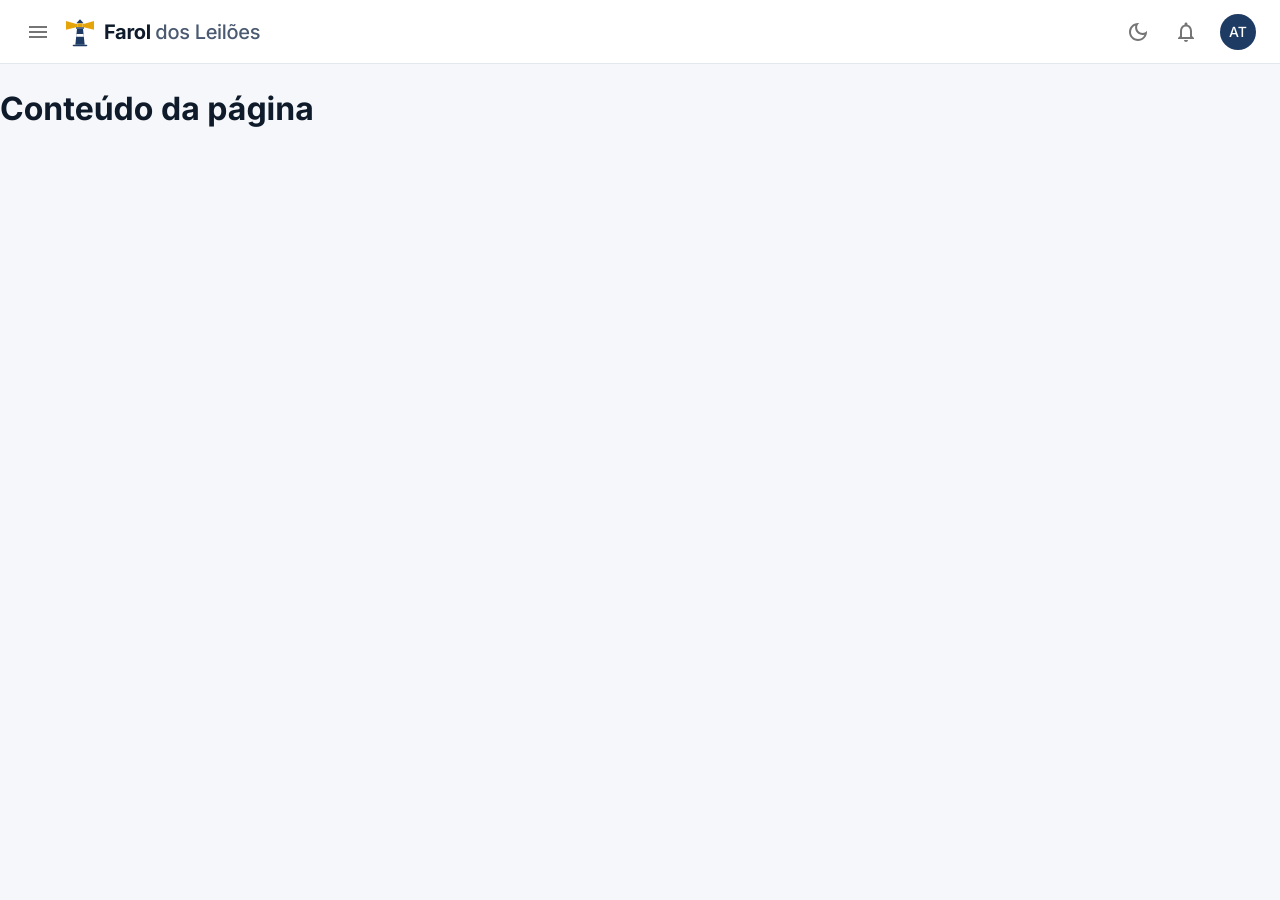
Test: AppShell — phone drawer › opens the same list, focuses "Fechar menu", closes on Esc and returns focus
The image size is (1280, 900).
Click the button named "Abrir menu".
click(38, 32)  # box x1=16 y1=10 x2=60 y2=54
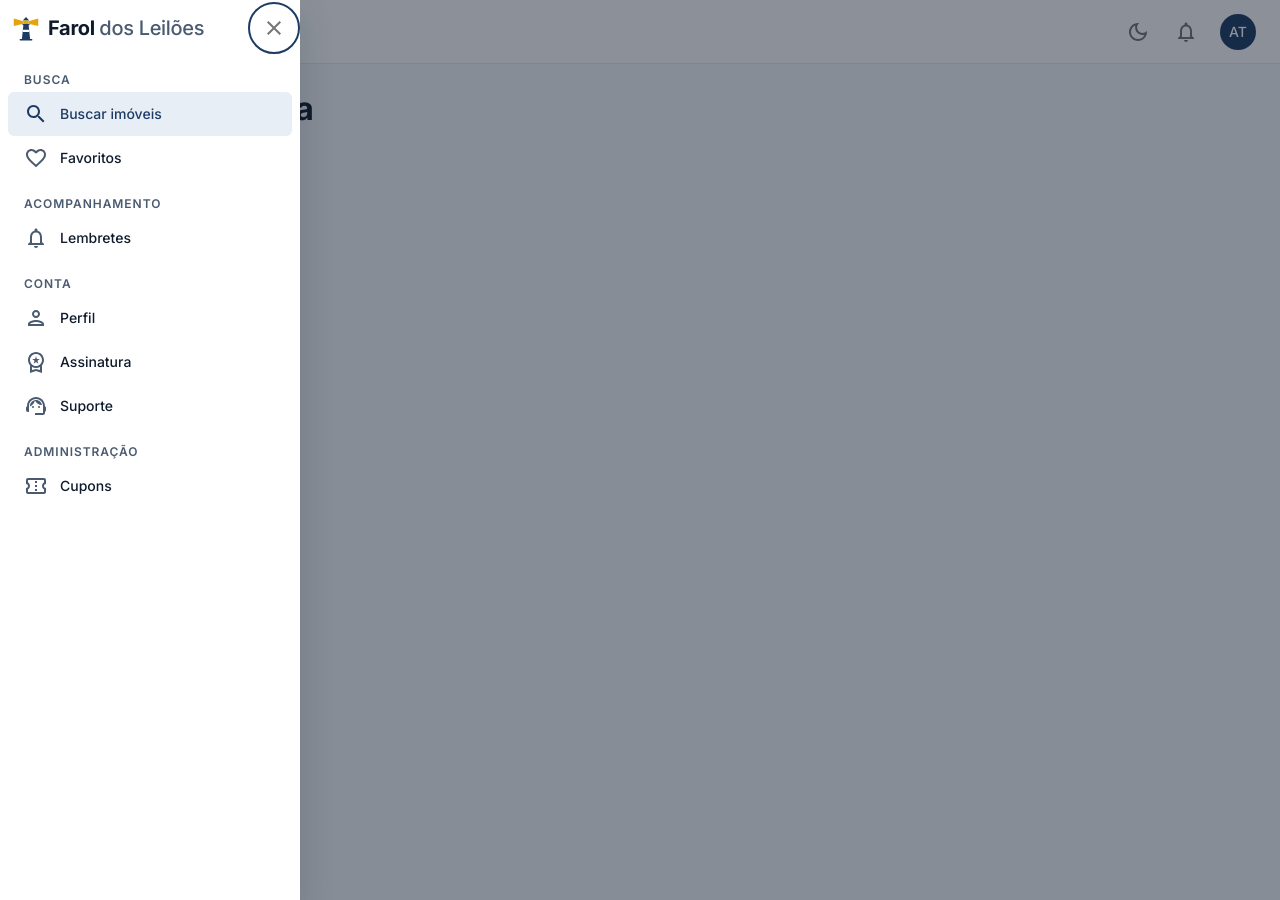
expect the button named "Abrir menu" is expanded: met, box x1=16 y1=10 x2=60 y2=54
focus stays inside: Shift+Tab from the first control wraps within the drawer
Press Shift+Tab
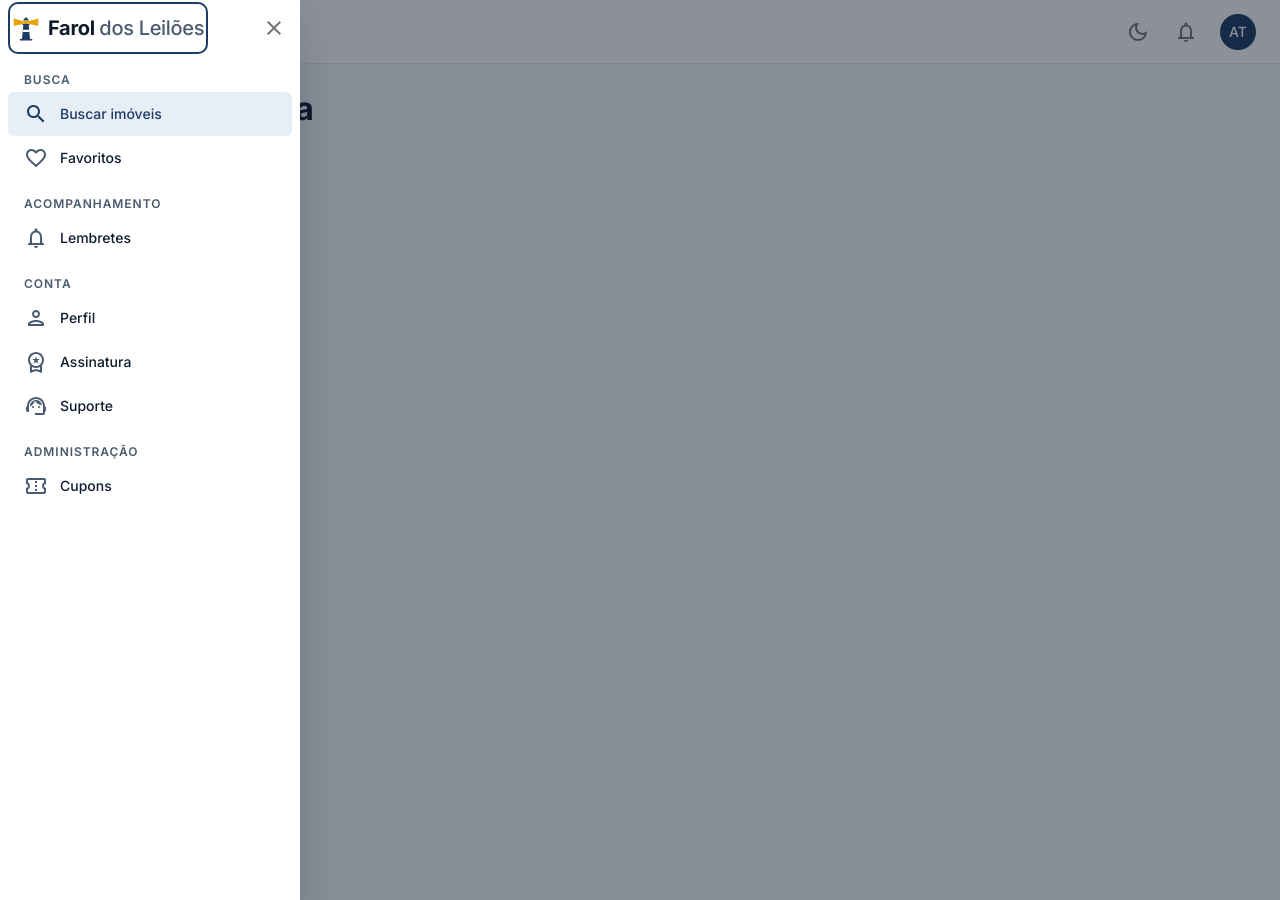
Press Escape
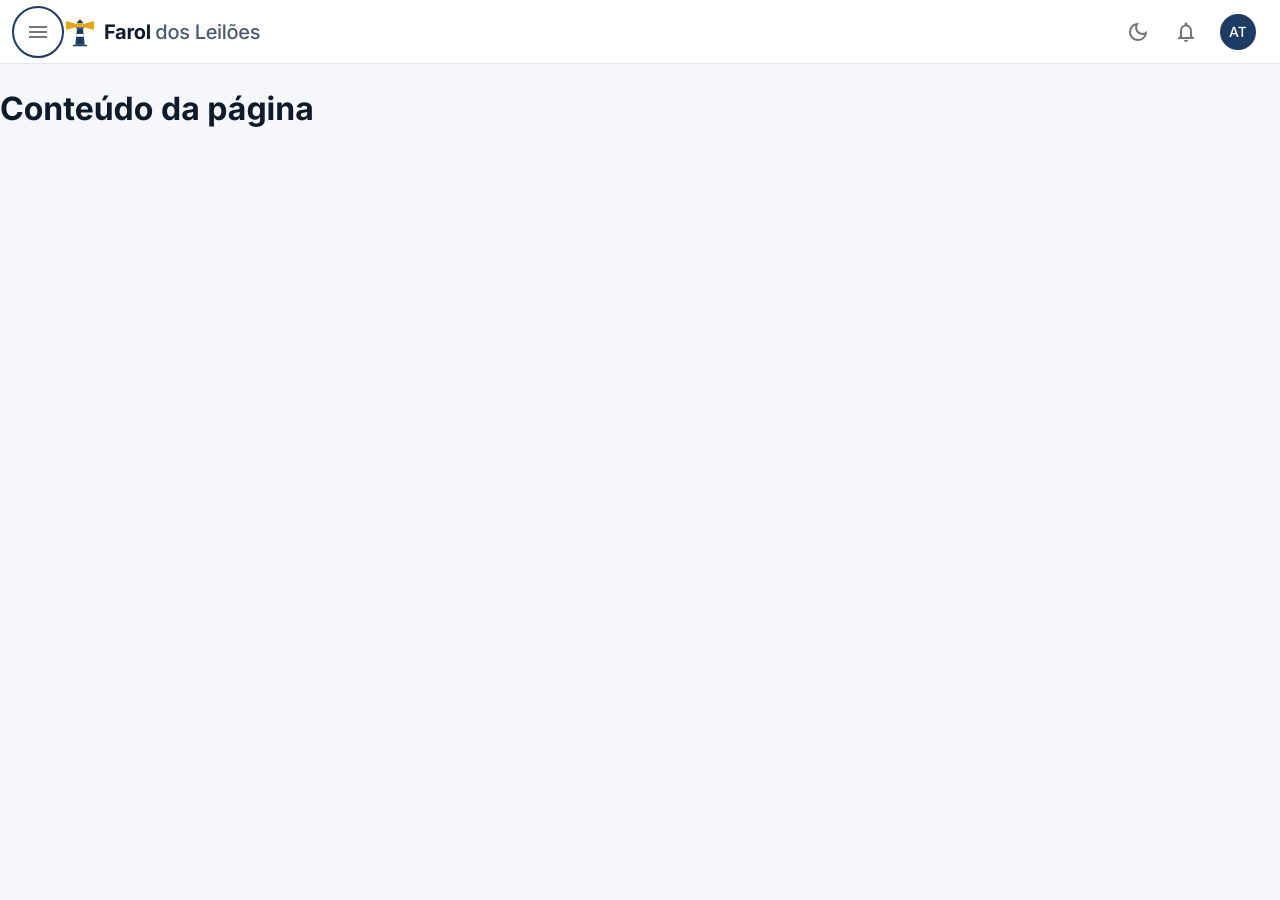
expect the dialog is gone: met
expect the button named "Abrir menu" is collapsed: met, box x1=16 y1=10 x2=60 y2=54
